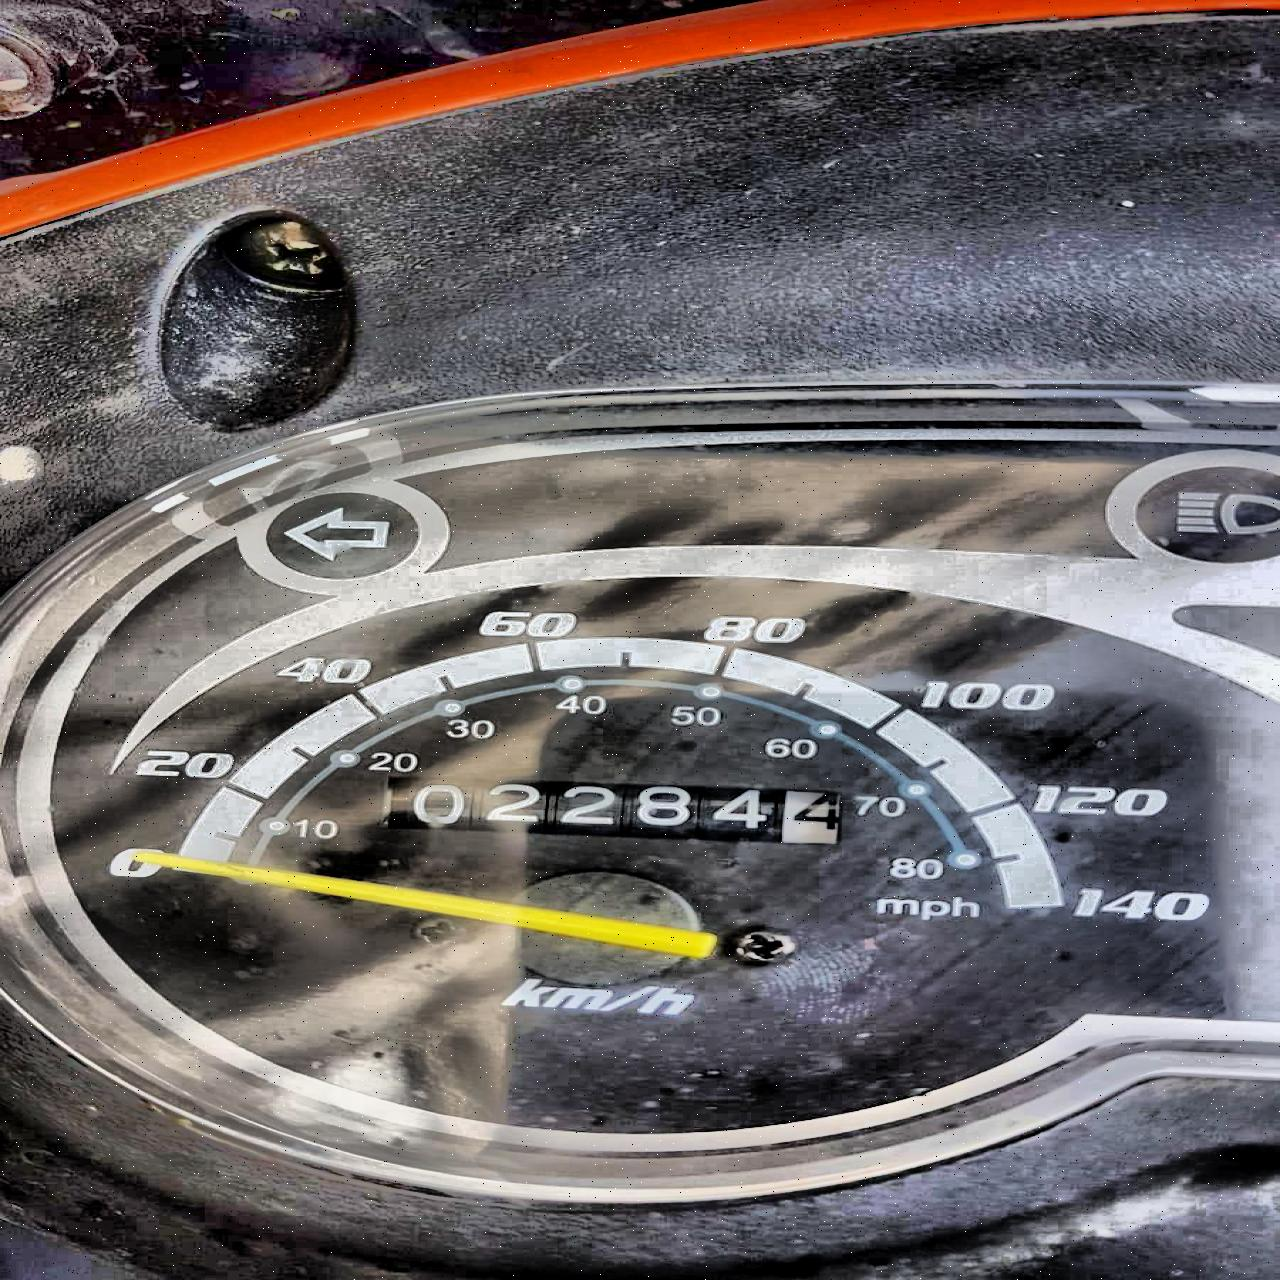0: (409, 779, 467, 826)
2: (560, 782, 619, 828), (482, 783, 540, 825)
4: (707, 784, 772, 830), (790, 788, 844, 833)
8: (631, 782, 693, 829)
odometer: (392, 774, 859, 852)
